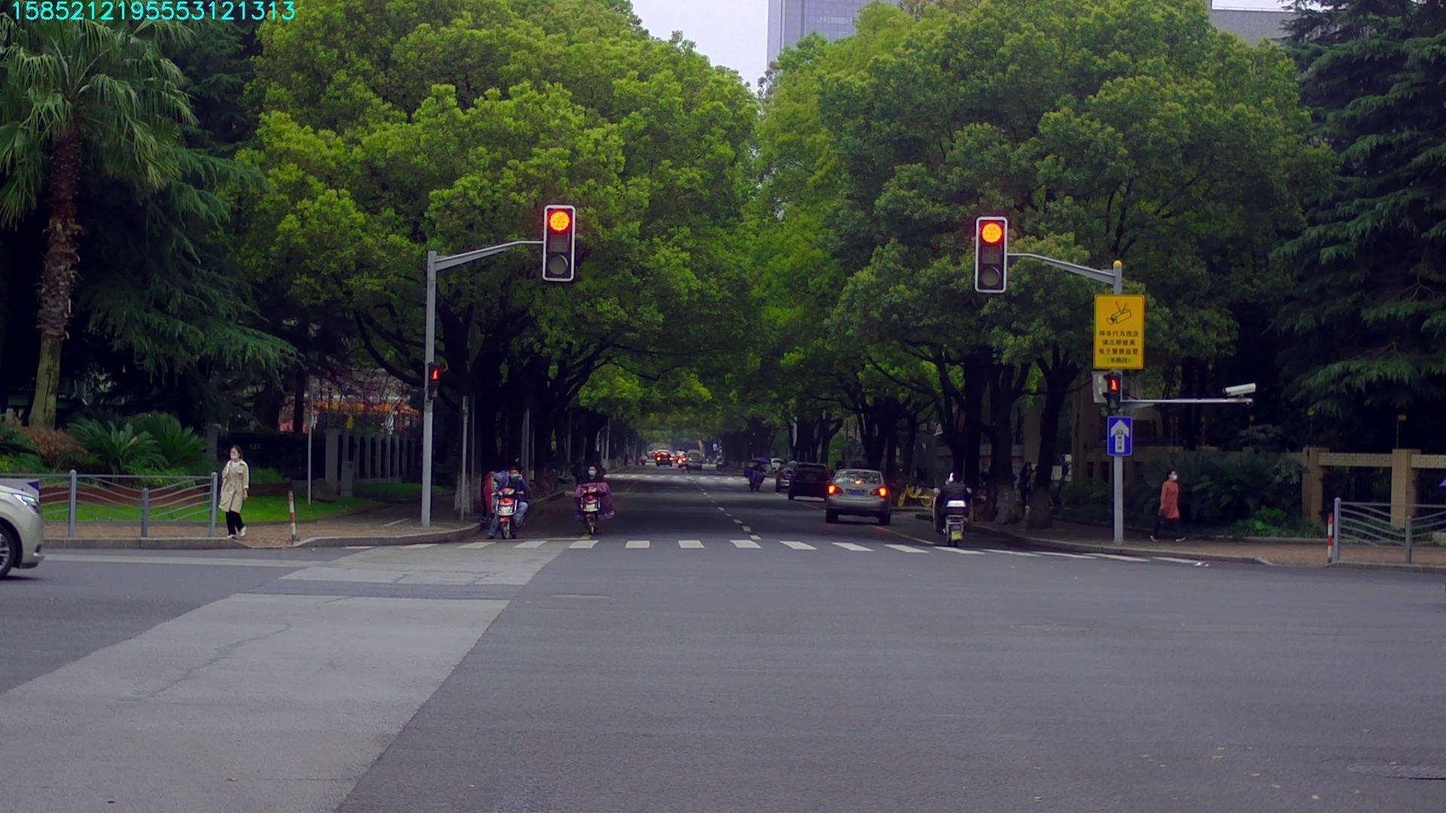red: (977, 217, 1005, 291), (544, 207, 572, 279)
